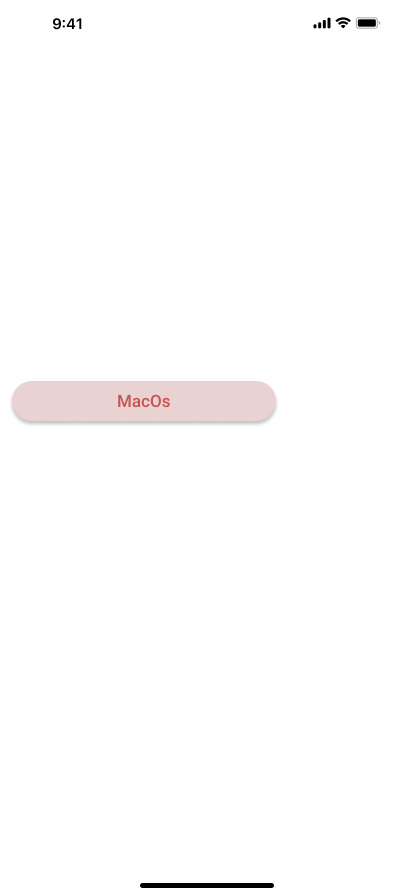Buttons: (8, 380, 284, 428)
Home Indicator: (0, 862, 414, 896)
Status Bar: (0, 0, 414, 44)
